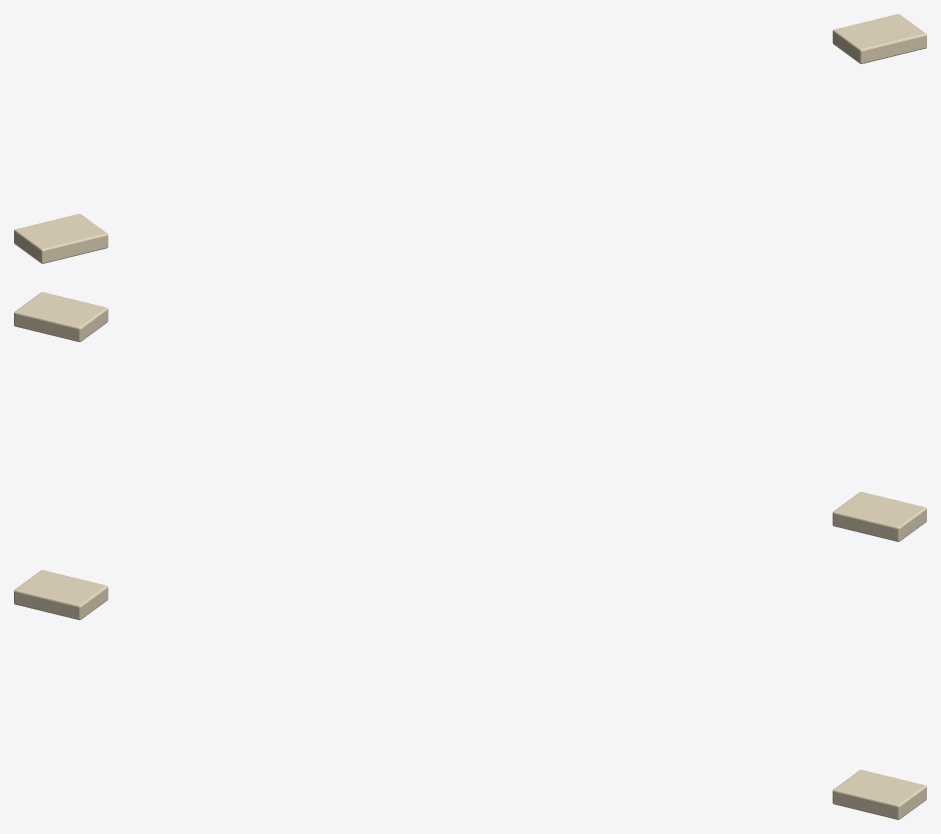
File: Gates_Trim.fbx
3 renders of one model, top to bottom at view 1: azimuth 30°, elevation 25°; view 2: azimuth 150°, elevation 25°; view 3: azimuth 330°, elevation 25°, orthographic.
Parts seen in each view (by area): view 1: EntryPierCap-1.001; view 2: EntryPierCap-1.001; view 3: EntryPierCap-1.001.
Part boxes in pixels (bbox=[...]): EntryPierCap-1.001: bbox=[14, 14, 926, 263]; EntryPierCap-1.001: bbox=[14, 292, 926, 541]; EntryPierCap-1.001: bbox=[14, 570, 926, 819].
Size of the model in its own units: 12550 by 200 by 700.
